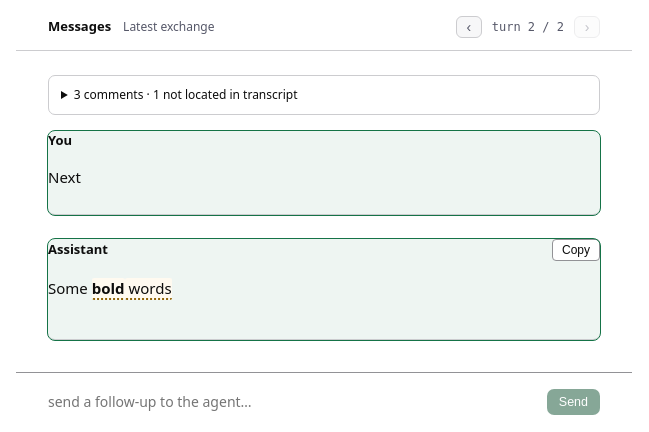
loads existing notes, counts only truly unlocated quotes and keeps notes escaped
Expected: the heading "3 comments · 1 not located in transcript" is shown, [74, 86, 298, 103]
Step 1. Focus the text "bold" → (108, 289), box [92, 278, 125, 300]
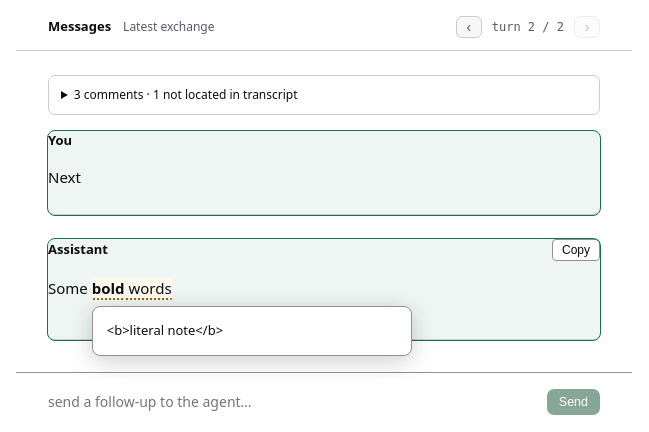
Step 2. Click the button named "Previous turn" → (469, 27), box [456, 16, 482, 38]
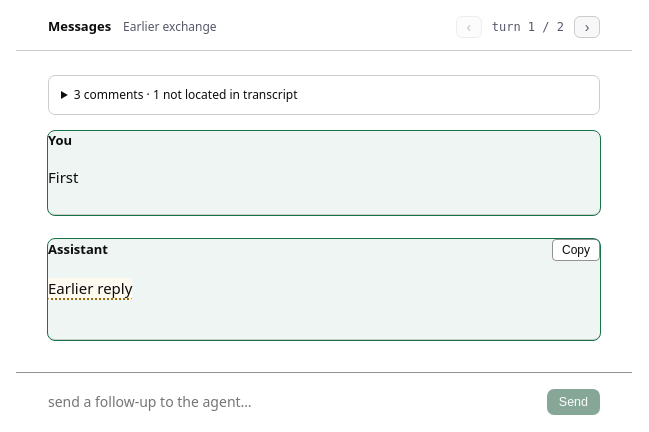
Result: the text "Earlier reply" is shown at [48, 278, 132, 300]
